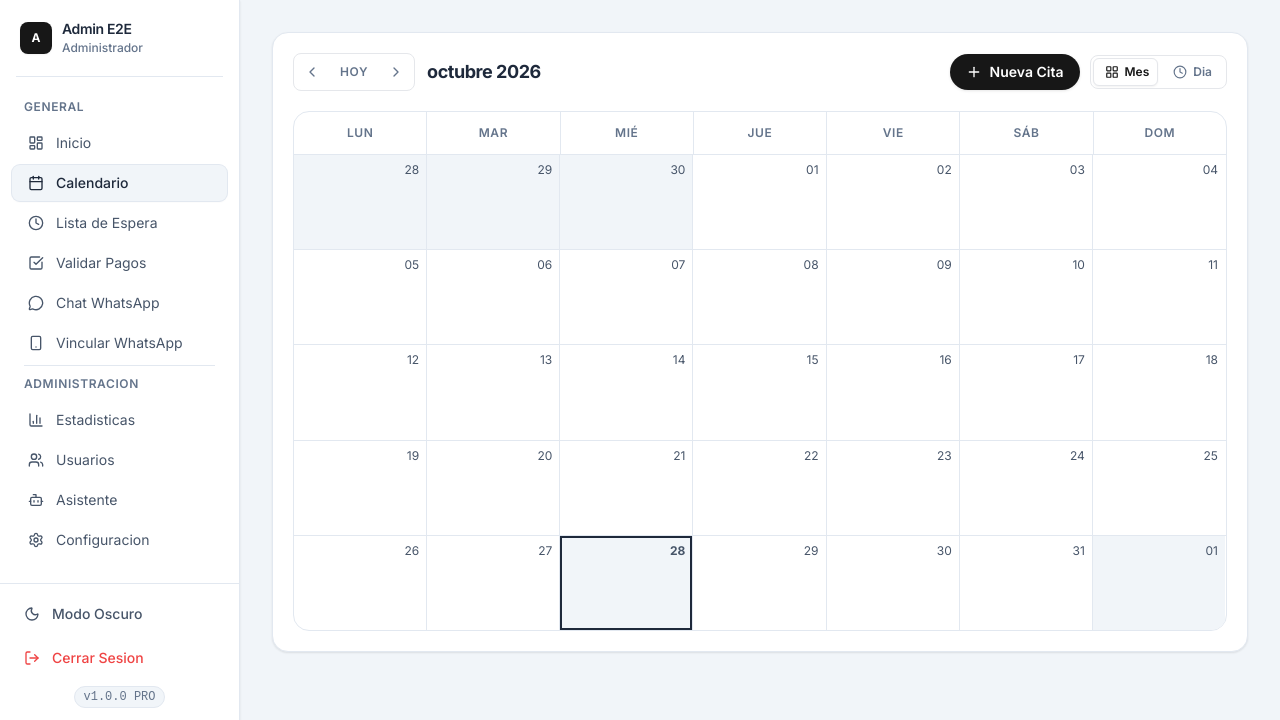
Test: Calendario — crear cita › crea una cita y aparece en el calendario
Click the button "Nueva Cita". click: click(1015, 72)
box: [950,54,1080,90]
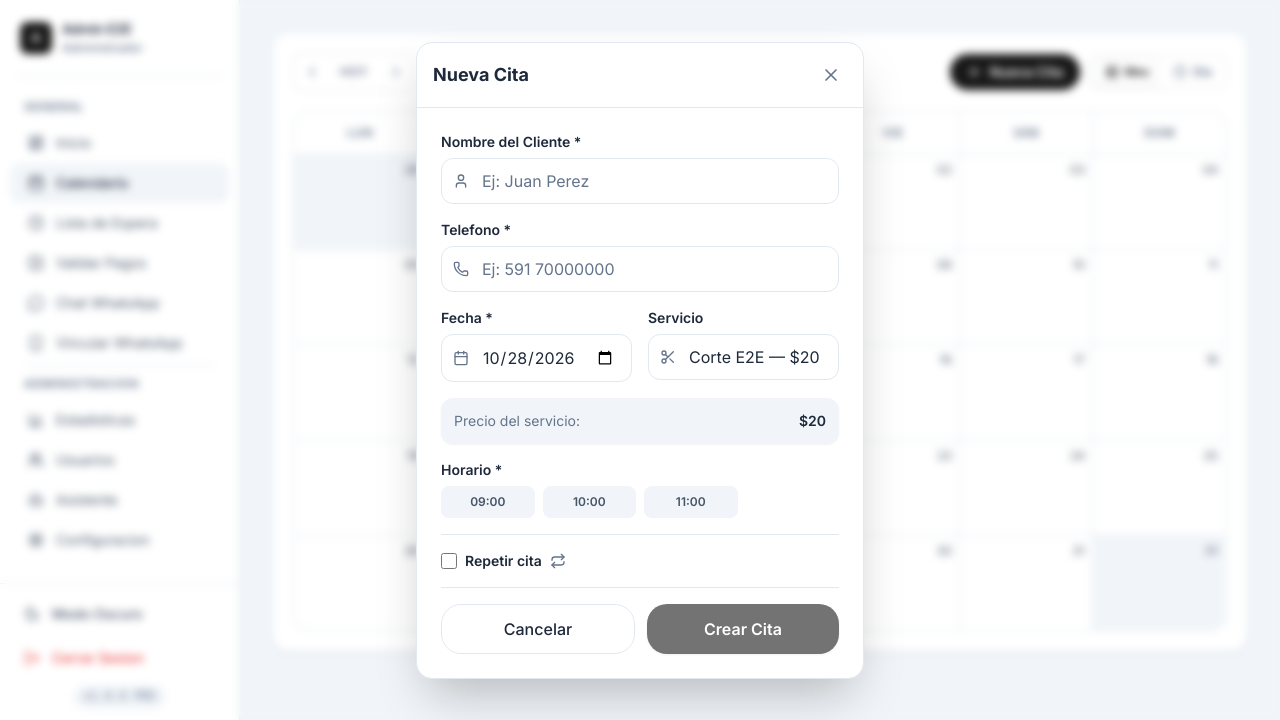
Check: the dialog is shown, box [416,42,864,679]
Type "Juan E2E" into the field with placeholder "Ej: Juan Perez". click: (640, 181)
box: [441,158,839,204]
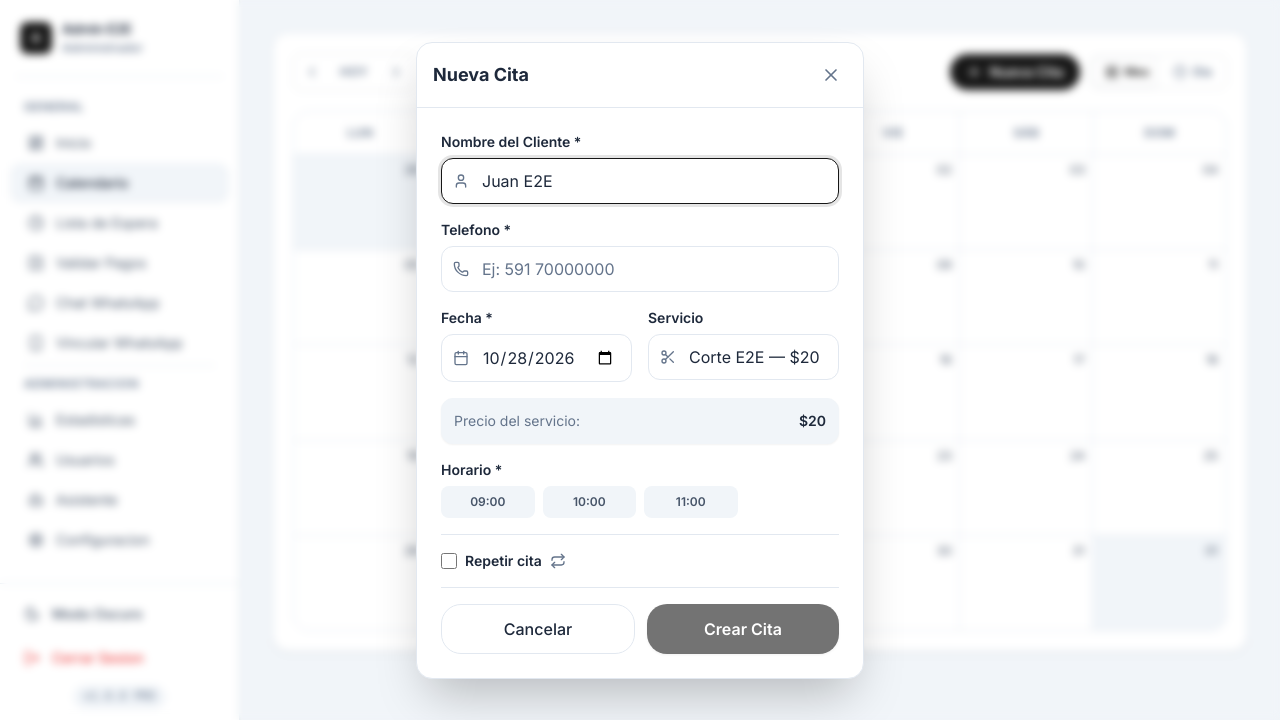
Type "61234567" into the field with placeholder "Ej: 591 70000000". click: (640, 269)
box: [441,246,839,292]
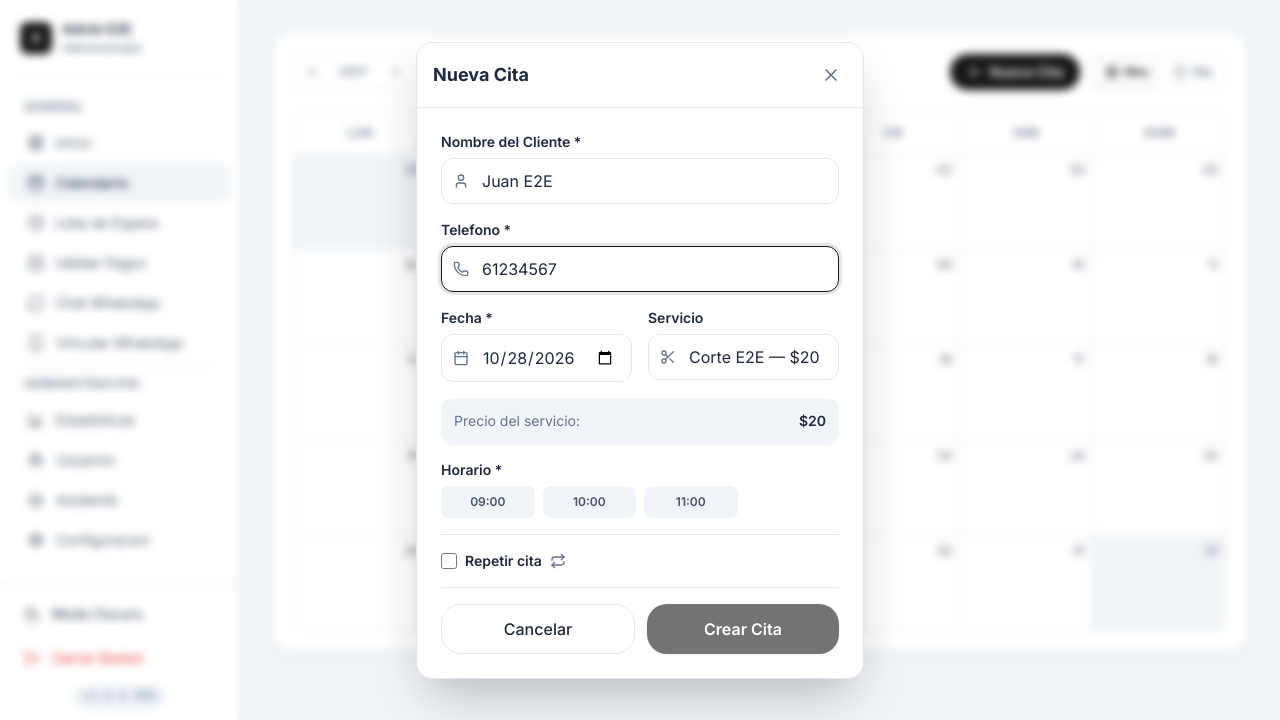
Select "Corte E2E — $20 (30 min)" in the dropdown. click: (744, 357)
box: [648,334,839,380]
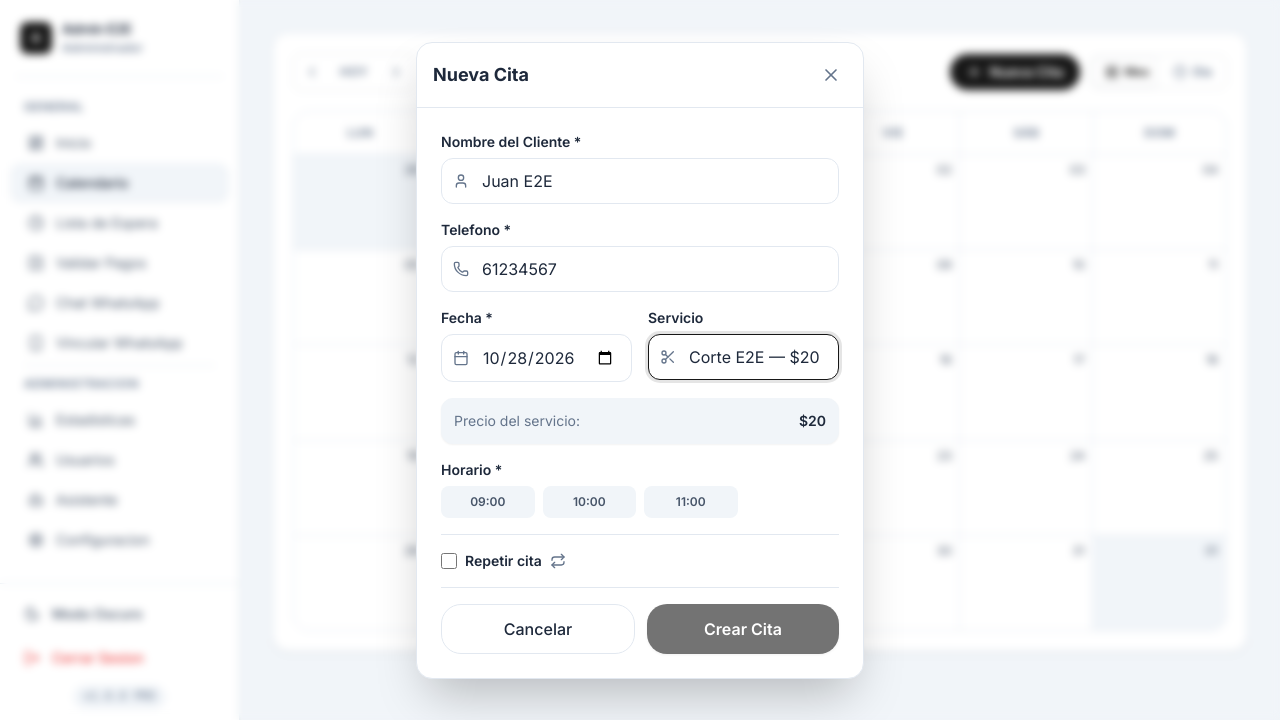
Click the button "09:00". click: click(488, 502)
box: [441,486,535,518]
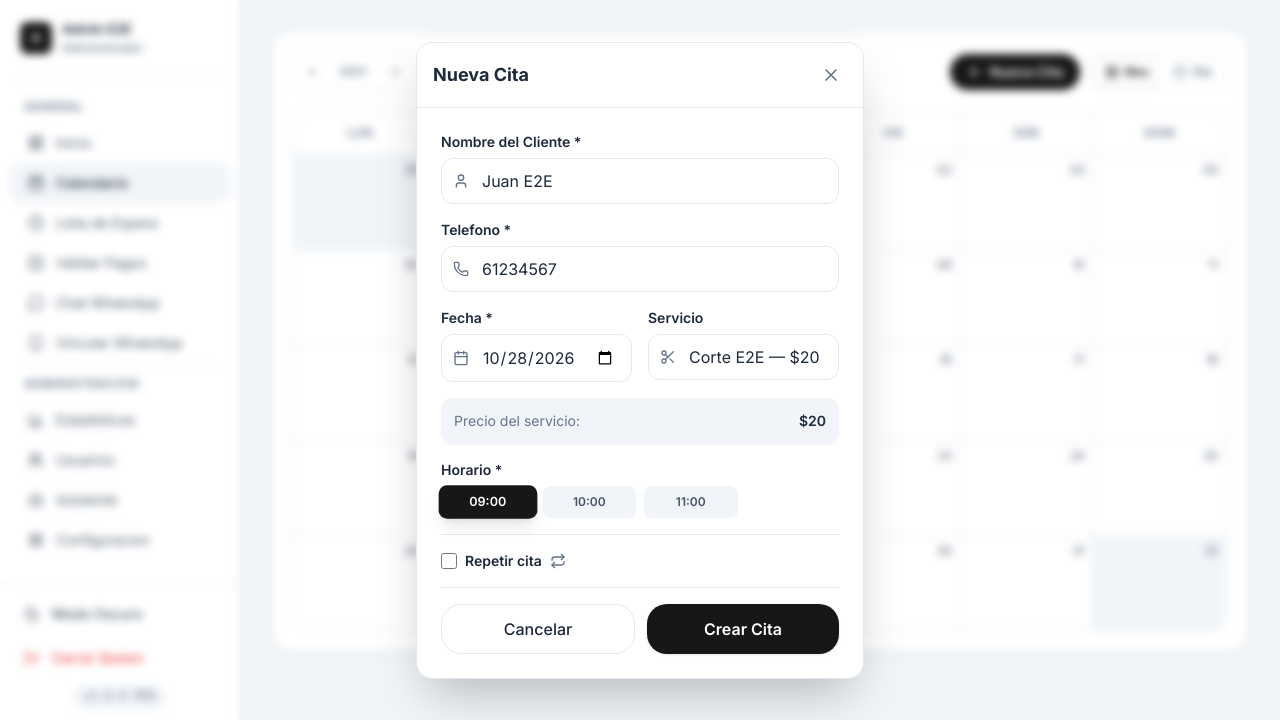
Click the button "Crear Cita". click: click(743, 629)
box: [647,604,839,654]
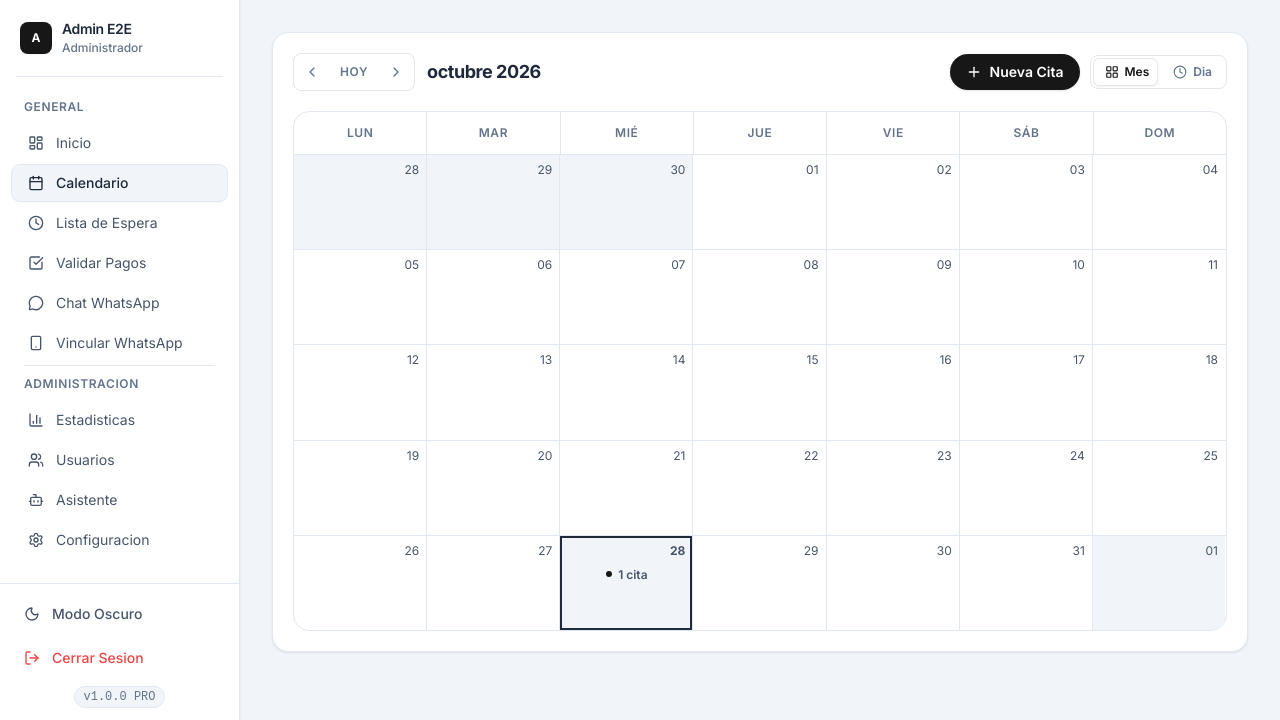
Check: the dialog is gone
Check: the text "1 cita" is shown, box [606,567,648,582]
